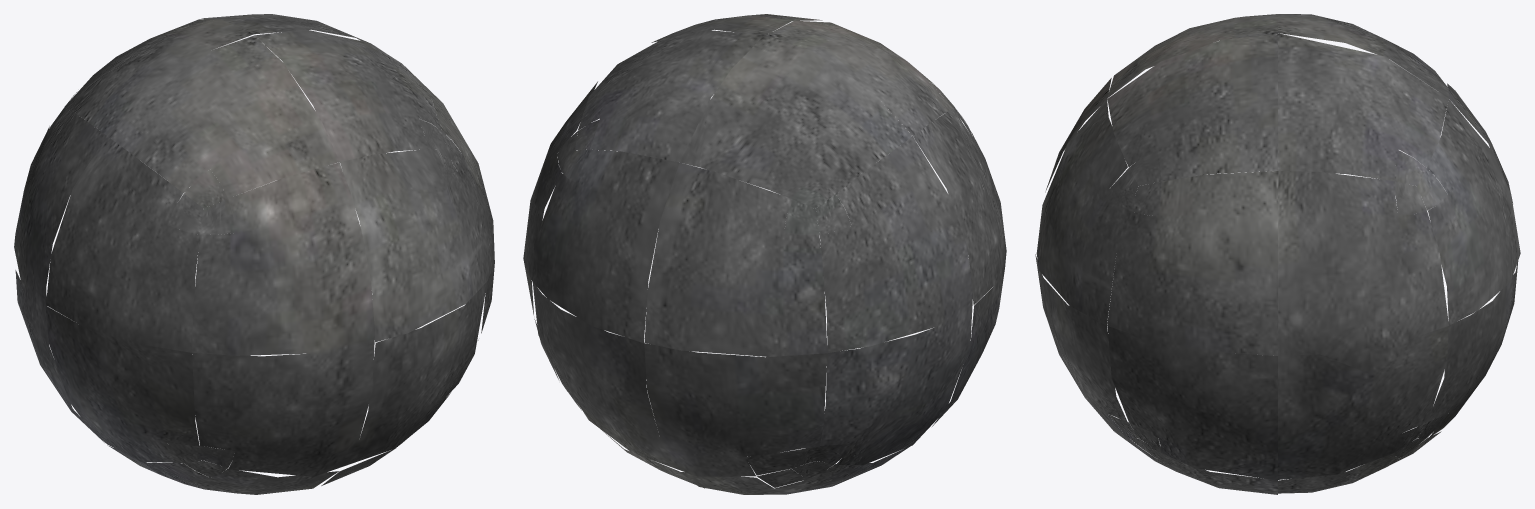
File: mercury-small.glb
3 renders of one model, left to right at view 1: azimuth 30°, elevation 25°; view 2: azimuth 150°, elevation 25°; view 3: azimuth 270°, elevation 25°, orthographic.
Parts seen in each view (by area): view 1: Body; view 2: Body; view 3: Body.
Part boxes in pixels (bbox=[...]): Body: bbox=[14, 14, 494, 494]; Body: bbox=[523, 14, 1006, 494]; Body: bbox=[1035, 14, 1520, 494].
Size of the model in its own units: 2.01 by 2.01 by 2.02.
Materials: 1 (1 with a texture image).
